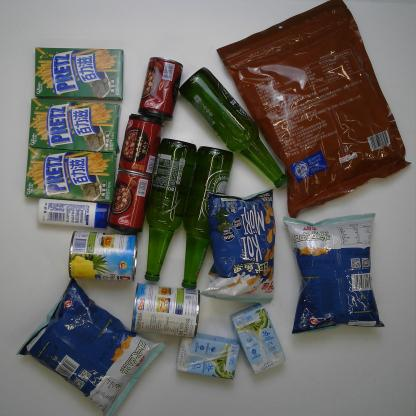Alcohol: (178, 68, 288, 190), (140, 135, 197, 279), (180, 141, 235, 290)
Canned Food: (132, 277, 200, 341), (69, 225, 142, 284), (138, 56, 184, 122), (107, 165, 151, 231), (119, 110, 165, 172)
Dessert: (23, 143, 119, 206), (26, 95, 122, 152), (30, 45, 124, 99)
Dried Food: (218, 1, 410, 216)
Milk: (234, 304, 284, 373), (175, 326, 238, 380)
Personal Hygiene: (35, 193, 114, 232)
Puffed Food: (20, 281, 162, 413), (278, 210, 382, 336), (200, 188, 282, 304)
